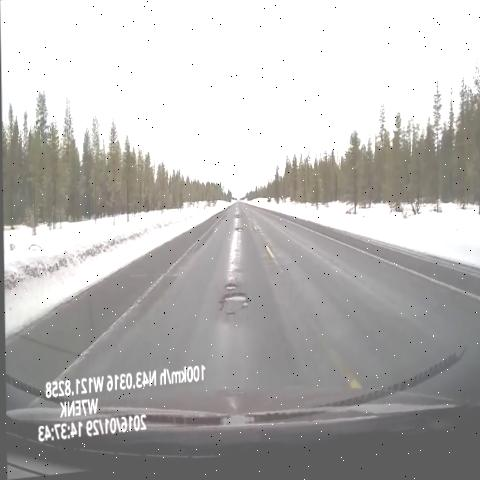pothole: (210, 278, 254, 330), (231, 227, 248, 243), (231, 212, 244, 231)
